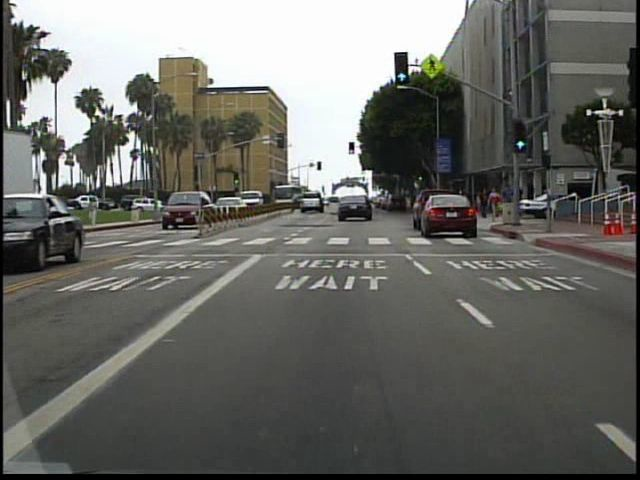person: (85, 190, 106, 234), (487, 186, 502, 224), (502, 181, 516, 218)
